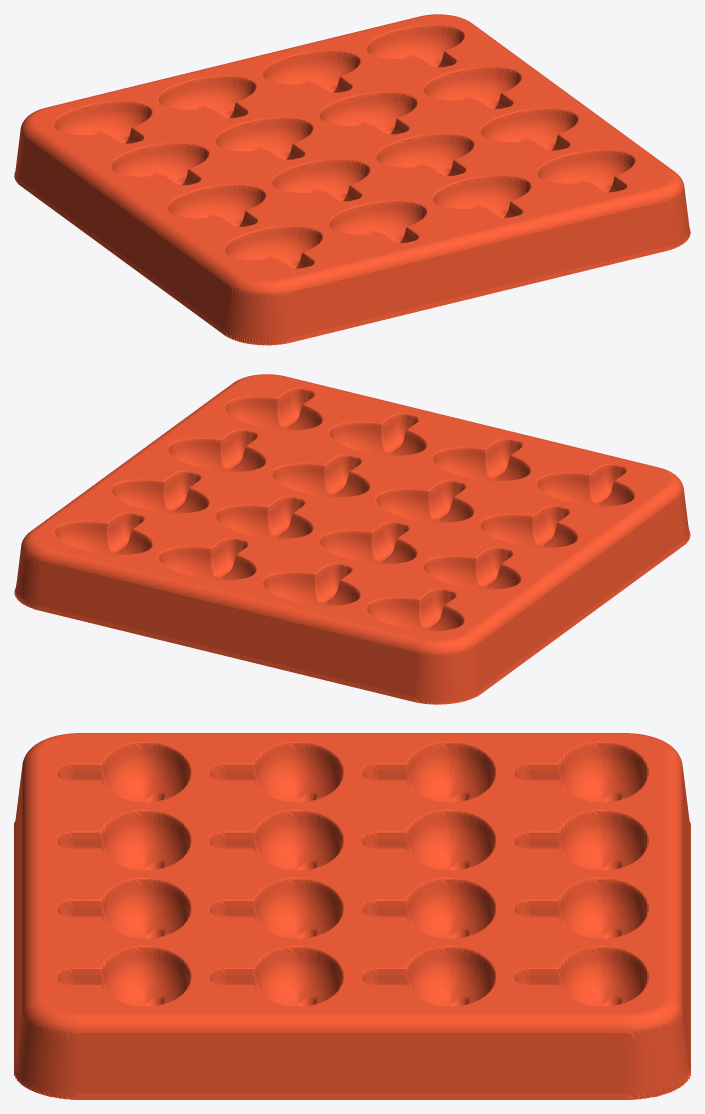
The model's file is mold.glb.
3 renders of one model, top to bottom at view 1: azimuth 30°, elevation 25°; view 2: azimuth 150°, elevation 25°; view 3: azimuth 270°, elevation 25°, orthographic. The views are drawn at different scales.
Visible parts, largest first — view 1: geometry_0; view 2: geometry_0; view 3: geometry_0.
Boxes of the visible parts, x1,y1,x2,y2 form: geometry_0: [14, 14, 690, 345]; geometry_0: [14, 374, 690, 704]; geometry_0: [14, 733, 690, 1099].
Bounding box in the file's own units: 0.0972 × 0.0113 × 0.0924.
